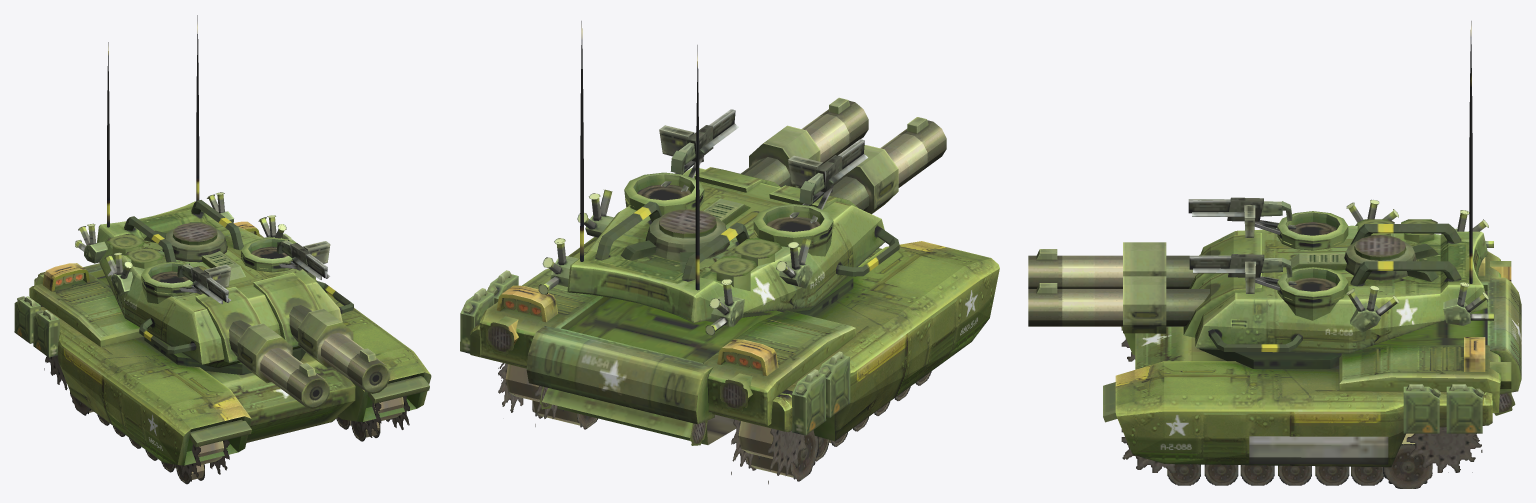
The model's file is VWFHTNKH.bgf.obj.
3 renders of one model, left to right at view 1: azimuth 30°, elevation 25°; view 2: azimuth 150°, elevation 25°; view 3: azimuth 270°, elevation 25°, orthographic. The views are drawn at different scales.
Parts seen in each view (by area): view 1: VWFHTNK, TURRET, GUN02, GUN01, BARREL02, BARREL01, ISSUE_JERRYCAN04, L_IDLER, R_IDLER, ISSUE_JERRYCAN03, ARIEL01, ARIEL02; view 2: VWFHTNK, TURRET, GUN01, GUN02, R_IDLER01, BARREL02, BARREL01, ISSUE_JERRYCAN03, ISSUE_JERRYCAN04, L_IDLER01, R_WHEEL_D, ISSUE_JERRYCAN01 (+3 smaller); view 3: VWFHTNK, TURRET, GUN02, GUN01, BARREL01, BARREL02, L_IDLER01, ISSUE_JERRYCAN01, ISSUE_JERRYCAN02, L_WHEEL_D, ARIEL01, L_INTERP_AB (+5 smaller).
Boxes of the visible parts, box(x1,y1,x2,y2) form: VWFHTNK: box(29, 221, 431, 465); TURRET: box(75, 192, 353, 367); GUN02: box(289, 305, 390, 393); GUN01: box(229, 320, 329, 408); BARREL02: box(177, 263, 231, 304); BARREL01: box(276, 240, 330, 279); ISSUE_JERRYCAN04: box(33, 310, 59, 357); L_IDLER: box(354, 396, 409, 437); R_IDLER: box(174, 440, 229, 481); ISSUE_JERRYCAN03: box(14, 296, 40, 343); ARIEL01: box(196, 15, 199, 200); ARIEL02: box(107, 42, 109, 227); VWFHTNK: box(470, 237, 999, 445); TURRET: box(538, 167, 899, 335); GUN01: box(829, 117, 946, 214); GUN02: box(741, 97, 868, 188); R_IDLER01: box(731, 419, 807, 484); BARREL02: box(788, 139, 867, 204); BARREL01: box(659, 109, 738, 173); ISSUE_JERRYCAN03: box(792, 369, 826, 435); ISSUE_JERRYCAN04: box(818, 351, 850, 417); L_IDLER01: box(498, 363, 563, 426); R_WHEEL_D: box(745, 430, 818, 481); ISSUE_JERRYCAN01: box(460, 288, 494, 353); VWFHTNK: box(1103, 251, 1521, 467); TURRET: box(1183, 199, 1493, 353); GUN02: box(1028, 276, 1209, 333); GUN01: box(1028, 242, 1197, 288); BARREL01: box(1189, 254, 1292, 293); BARREL02: box(1188, 197, 1292, 237); L_IDLER01: box(1406, 427, 1482, 472); ISSUE_JERRYCAN01: box(1446, 384, 1483, 433); ISSUE_JERRYCAN02: box(1403, 384, 1440, 433); L_WHEEL_D: box(1383, 433, 1432, 488); ARIEL01: box(1469, 71, 1472, 283); L_INTERP_AB: box(1204, 464, 1238, 485).
Size of what is drawn, in the model's own units: 6.03 by 6.98 by 7.93.
34 materials, 34 textured.
